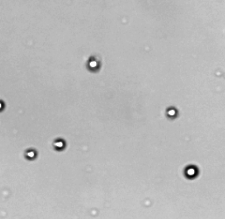Living Cell: (85, 55, 102, 71), (183, 164, 200, 179), (52, 137, 66, 150), (166, 105, 179, 118), (24, 148, 37, 160)
